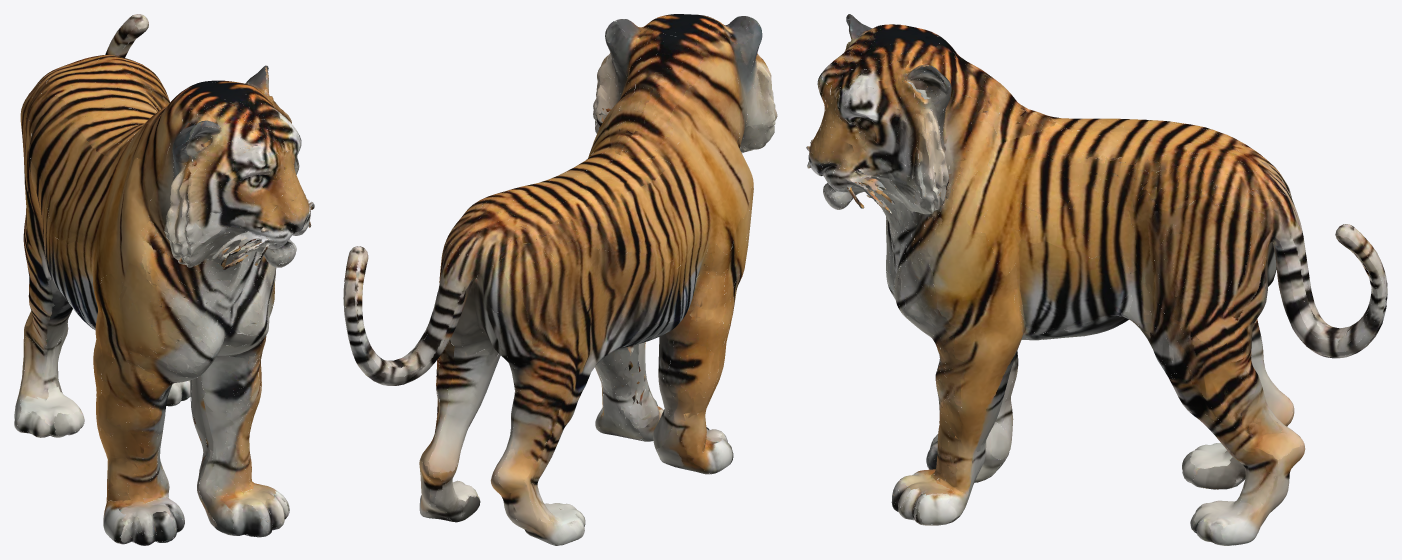
Rendered from tiger.glb.
3 views of the same model, side by side, from view 1: azimuth 30°, elevation 25°; view 2: azimuth 150°, elevation 25°; view 3: azimuth 270°, elevation 25° (orthographic). The views are drawn at different scales.
Visible parts, largest first — view 1: maker_normalize; view 2: maker_normalize; view 3: maker_normalize.
Boxes of the visible parts, bbox=[...] form: maker_normalize: bbox=[14, 14, 314, 545]; maker_normalize: bbox=[343, 14, 777, 545]; maker_normalize: bbox=[806, 14, 1387, 545].
Bounding box in the file's own units: 0.6505 × 1.2 × 1.38.
Materials: 1 (1 with a texture image).
